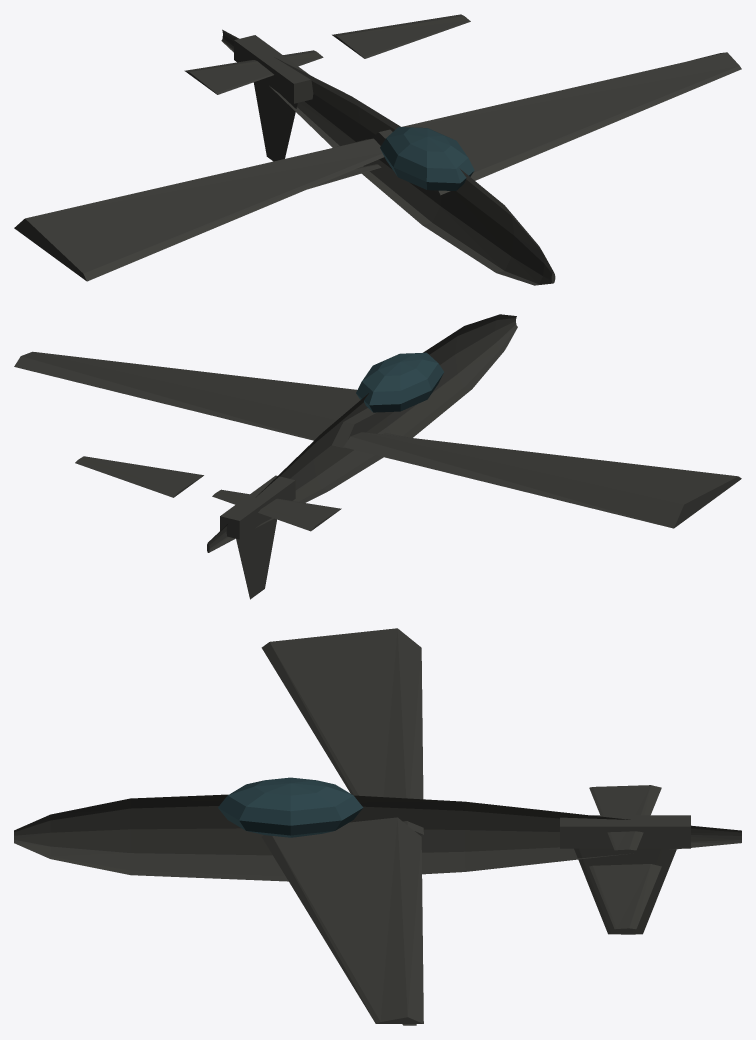
Rendered from il2_Destroyed.glb.
3 views of the same model, one above another, from view 1: azimuth 30°, elevation 25°; view 2: azimuth 150°, elevation 25°; view 3: azimuth 270°, elevation 25° (orthographic). The views are drawn at different scales.
Parts seen in each view (by area): view 1: Wing_L, Wing_R, Fuselage, Cockpit, Elevator_R, TailBoom, Rudder, Elevator_L; view 2: Wing_L, Wing_R, Fuselage, Cockpit, Elevator_R, TailBoom, Rudder, Elevator_L; view 3: Fuselage, Wing_R, Wing_L, Cockpit, TailBoom, Elevator_R, Rudder, Elevator_L.
Part boxes in pixels (x1,y1,x2,y2): Wing_L: (14,138,384,281); Wing_R: (371,52,741,195); Fuselage: (221,29,555,285); Cockpit: (380,127,474,190); Elevator_R: (332,14,470,58); TailBoom: (234,35,313,103); Rudder: (253,80,297,161); Elevator_L: (184,50,323,94); Wing_L: (344,432,741,528); Wing_R: (14,351,393,448); Fuselage: (207,314,517,552); Cockpit: (356,352,443,412); Elevator_R: (75,456,203,497); TailBoom: (220,475,295,539); Rudder: (236,517,276,599); Elevator_L: (212,489,341,531); Fuselage: (14,794,741,881); Wing_R: (262,817,423,1023); Wing_L: (261,628,423,834); Cockpit: (218,777,363,837); TailBoom: (560,815,690,848); Elevator_R: (589,864,661,929); Rudder: (574,848,676,934); Elevator_L: (589,785,661,850).
Bounding box in the file's own units: 14.02 × 2.6 × 11.4.
